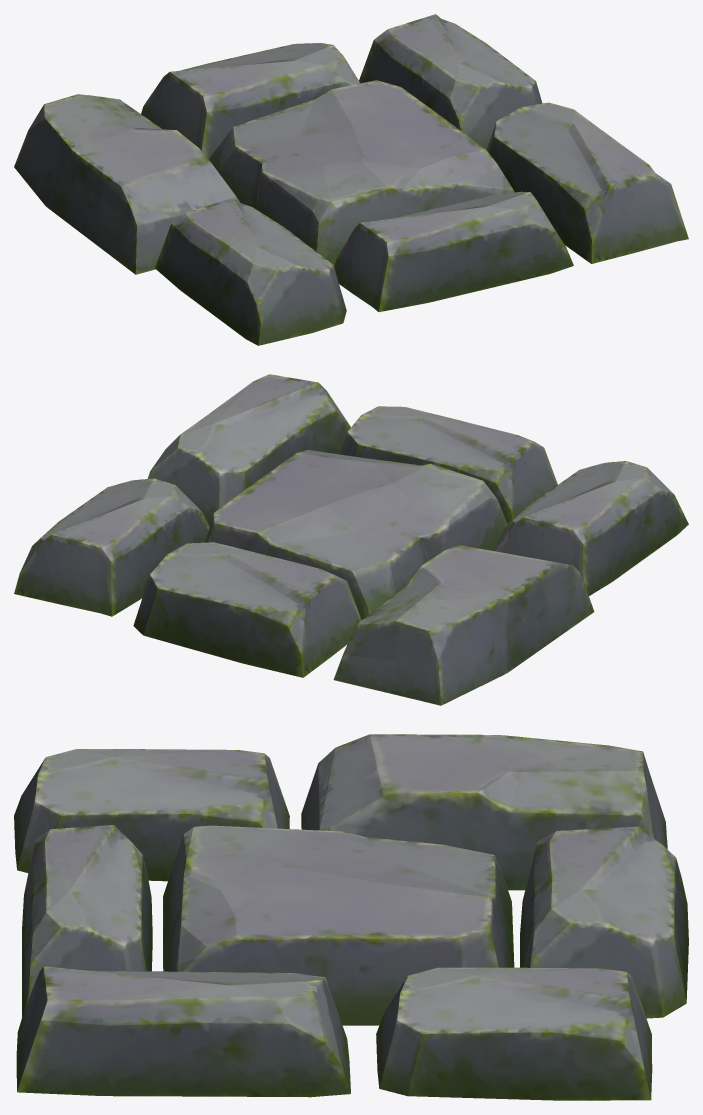
File: RockPath_Square_Small_2.glb
3 renders of one model, top to bottom at view 1: azimuth 30°, elevation 25°; view 2: azimuth 150°, elevation 25°; view 3: azimuth 270°, elevation 25°, orthographic. The views are drawn at different scales.
Visible parts, largest first — view 1: RockPath_Square_Small_2; view 2: RockPath_Square_Small_2; view 3: RockPath_Square_Small_2.
Part boxes in pixels (x1=…): RockPath_Square_Small_2: x1=14, y1=14, x2=688, y2=345; RockPath_Square_Small_2: x1=14, y1=374, x2=688, y2=705; RockPath_Square_Small_2: x1=14, y1=734, x2=688, y2=1100.
Size of the model in its own units: 0.9927 by 0.1493 by 0.9661.
1 material, 1 textured.
